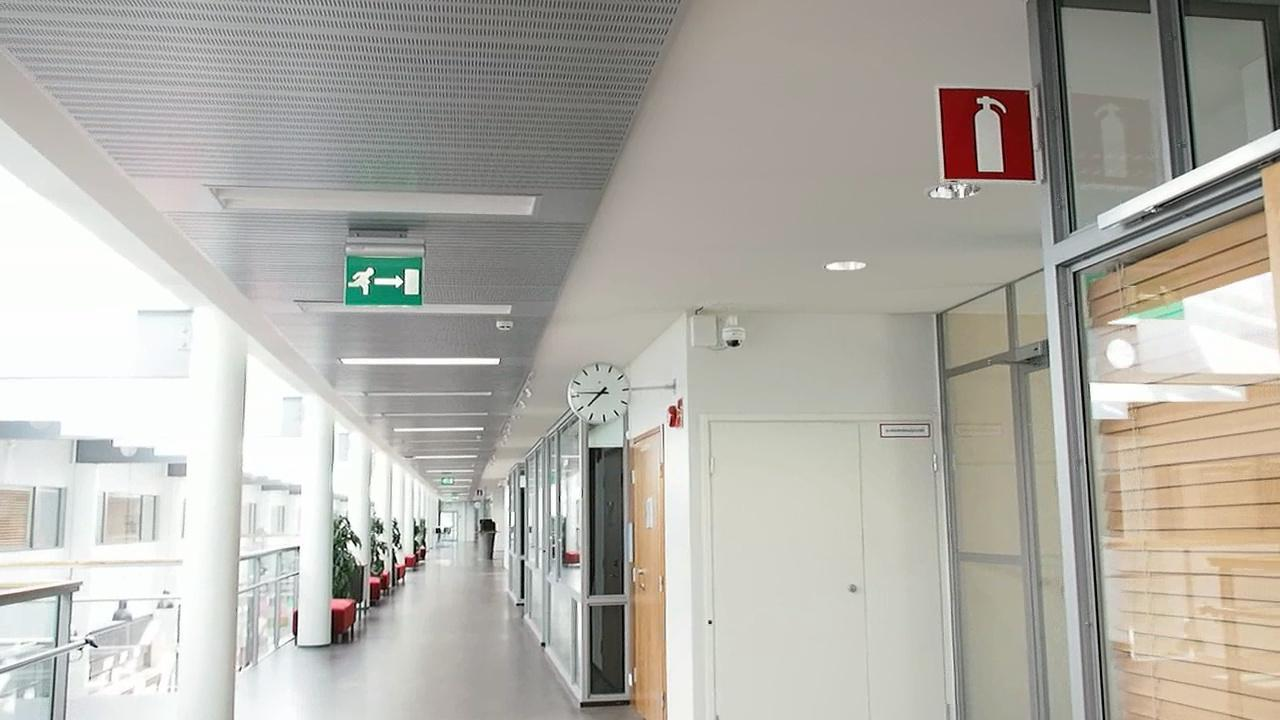clock: (564, 363, 633, 426)
exit: (337, 255, 422, 309)
fireextinguisher: (945, 84, 1038, 179)
